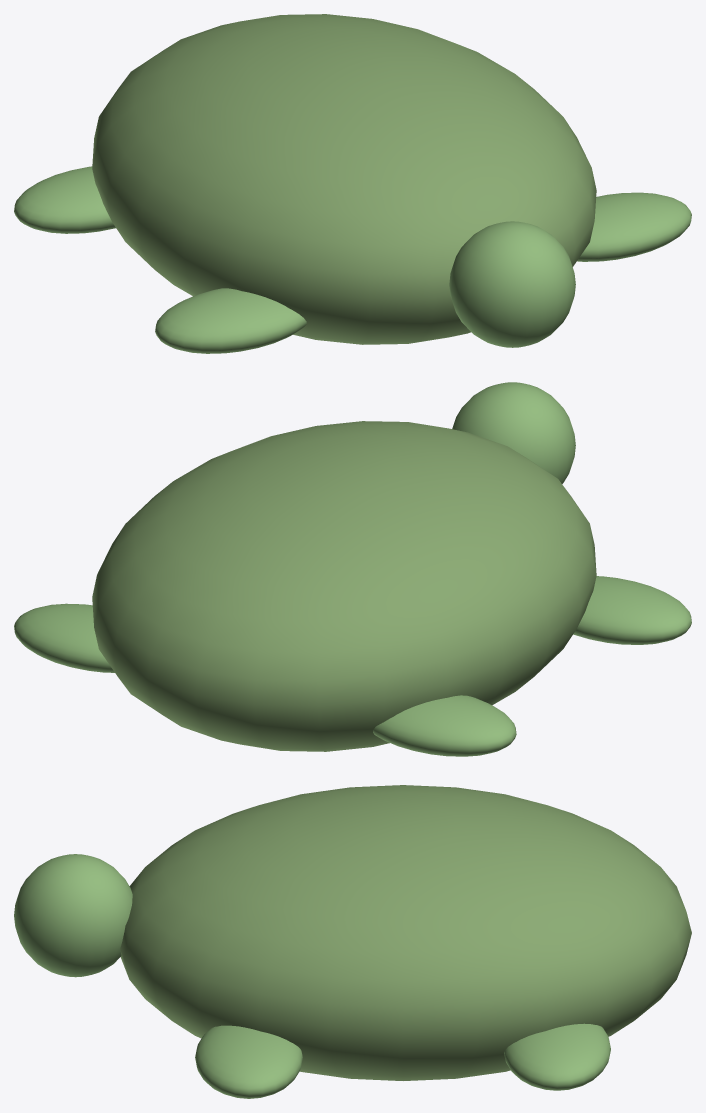
The model's file is turtle.glb.
The picture shows the model from 3 angles, top to bottom: view 1: azimuth 30°, elevation 25°; view 2: azimuth 150°, elevation 25°; view 3: azimuth 270°, elevation 25°; orthographic projection. The views are drawn at different scales.
Parts seen in each view (by area): view 1: shell, head, flip_-0.55_0.4, flip_0.55_0.4, flip_-0.5_-0.4; view 2: shell, head, flip_-0.5_-0.4, flip_-0.55_0.4, flip_0.5_-0.4; view 3: shell, head, flip_0.55_0.4, flip_0.5_-0.4.
Boxes of the visible parts, box(x1,y1,x2,y2) form: shell: box(92, 14, 596, 344); head: box(449, 221, 575, 347); flip_-0.55_0.4: box(155, 288, 306, 353); flip_0.55_0.4: box(577, 192, 691, 261); flip_-0.5_-0.4: box(14, 166, 115, 233); shell: box(92, 421, 596, 751); head: box(452, 382, 575, 483); flip_-0.5_-0.4: box(373, 695, 516, 756); flip_-0.55_0.4: box(573, 576, 691, 644); flip_0.5_-0.4: box(14, 603, 114, 672); shell: box(120, 785, 691, 1080); head: box(14, 854, 132, 977); flip_0.55_0.4: box(195, 1025, 302, 1098); flip_0.5_-0.4: box(504, 1023, 610, 1090).
Size of the model in its own units: 1.54 by 0.64 by 1.76.
